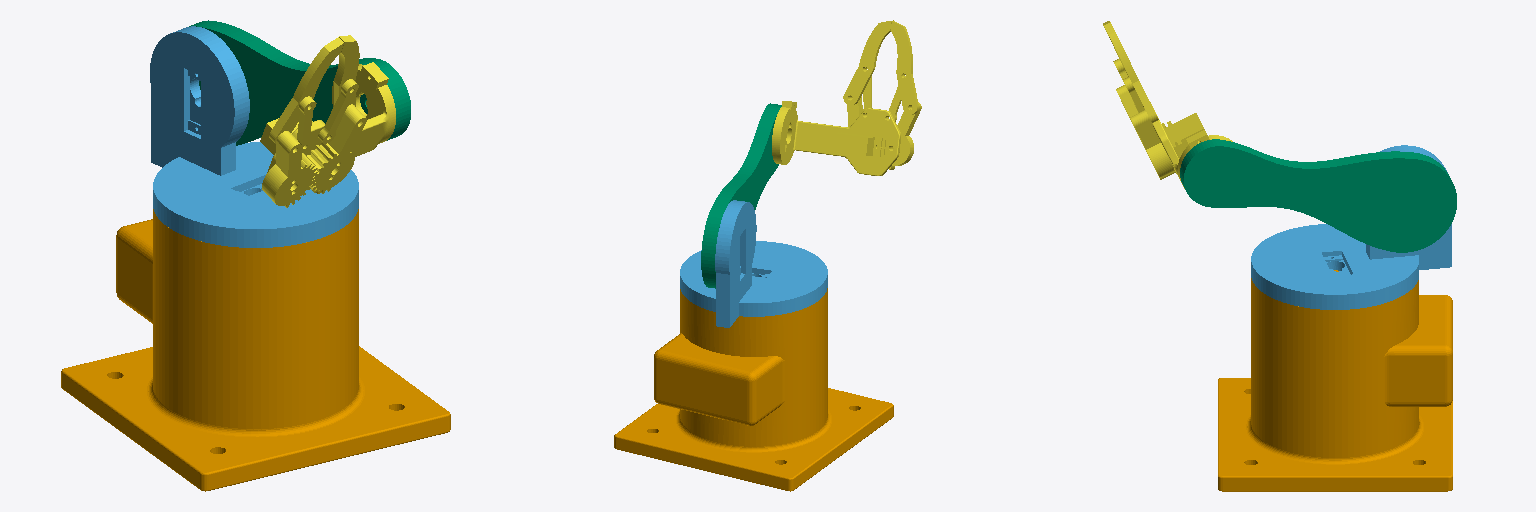
URDF robot description (cad_aligned_3dof_robot):
<?xml version="1.0"?>
<!--
  FINAL VERSION-1 URDF (FIXED LINK-FRAME PLACEMENT)
  3-DOF CAD-aligned robotic arm

  CAD reference:
    - Base, Base Link, Linker, and Gripper mesh frames come from the
      Fusion 360 component frames verified during extraction.
    - Gripper 2.0 is modeled as ONE rigid link.
    - The internal gripper mechanism is intentionally not modeled as
      additional DOFs in Version 1.

  Important:
    - STL coordinates are in millimetres, so every mesh uses scale 0.001.
    - Joint q=0 corresponds to the CAD assembly pose used during export.
    - Joint rpy is zero because the URDF joint frame is aligned with the
      parent link frame; the physical CAD mesh orientation is represented
      by each child link's visual/collision origin.
    - Inertial values are simple positive simulation values, NOT measured
      physical masses/inertias.
-->

<robot name="cad_aligned_3dof_robot">

  <!-- ========================================================= -->
  <!-- BASE                                                       -->
  <!-- ========================================================= -->

  <link name="base">

    <visual>
      <origin xyz="0 0 0" rpy="0 0 0"/>
      <geometry>
        <mesh filename="meshes/Base.stl"
              scale="0.001 0.001 0.001"/>
      </geometry>
    </visual>

    <collision>
      <origin xyz="0 0 0" rpy="0 0 0"/>
      <geometry>
        <mesh filename="meshes/Base.stl"
              scale="0.001 0.001 0.001"/>
      </geometry>
    </collision>

    <!-- Simulation-only inertial placeholder -->
    <inertial>
      <origin xyz="0 0 0" rpy="0 0 0"/>
      <mass value="1.0"/>
      <inertia
        ixx="0.01"
        ixy="0"
        ixz="0"
        iyy="0.01"
        iyz="0"
        izz="0.01"/>
    </inertial>

  </link>


  <!-- ========================================================= -->
  <!-- J1: BASE -> BASE LINK                                     -->
  <!-- ========================================================= -->

  <joint name="joint1_base_rotation"
         type="revolute">

    <parent link="base"/>
    <child link="base_link"/>

    <!-- J1 axis location from Fusion CAD -->
    <origin
      xyz="0 0 0.110000"
      rpy="0 0 0"/>

    <!-- J1 axis expressed in the parent/base frame -->
    <axis xyz="0 0 1"/>

    <limit
      lower="-3.14159265359"
      upper="3.14159265359"
      effort="1.0"
      velocity="2.0"/>

    <dynamics
      damping="0.02"
      friction="0.01"/>

  </joint>


  <!-- ========================================================= -->
  <!-- BASE LINK                                                  -->
  <!--                                                             -->
  <!-- The Base Link STL is expressed in its Fusion component     -->
  <!-- frame. At q=0 the component frame is rotated 102.392883 deg -->
  <!-- about Z relative to the parent/base frame.                  -->
  <!-- ========================================================= -->

  <link name="base_link">

    <visual>
      <origin
        xyz="0 0 0"
        rpy="0 0 1.7870929414"/>
      <geometry>
        <mesh filename="meshes/Base_Link.stl"
              scale="0.001 0.001 0.001"/>
      </geometry>
    </visual>

    <collision>
      <origin
        xyz="0 0 0"
        rpy="0 0 1.7870929414"/>
      <geometry>
        <mesh filename="meshes/Base_Link.stl"
              scale="0.001 0.001 0.001"/>
      </geometry>
    </collision>

    <inertial>
      <origin xyz="0 0 0" rpy="0 0 0"/>
      <mass value="0.20"/>
      <inertia
        ixx="0.001"
        ixy="0"
        ixz="0"
        iyy="0.001"
        iyz="0"
        izz="0.001"/>
    </inertial>

  </link>


  <!-- ========================================================= -->
  <!-- J2: BASE LINK -> LINKER                                   -->
  <!-- ========================================================= -->

  <joint name="joint2_shoulder"
         type="revolute">

    <parent link="base_link"/>
    <child link="linker"/>

    <!-- Fusion joint position relative to Base Link frame -->
    <origin
      xyz="0.00011040219 0.04143331674 0.04768605725"
      rpy="0 0 0"/>

    <!-- Physical J2 axis in Base Link frame -->
    <axis xyz="0.976698944 0.214614011 0"/>

    <limit
      lower="-3.14159265359"
      upper="3.14159265359"
      effort="1.0"
      velocity="2.0"/>

    <dynamics
      damping="0.02"
      friction="0.01"/>

  </joint>


  <!-- ========================================================= -->
  <!-- LINKER                                                     -->
  <!--                                                             -->
  <!-- Linker CAD component frame is 4 mm from the J2 joint frame -->
  <!-- along the J2 joint-frame Y direction and has the measured   -->
  <!-- CAD orientation.                                           -->
  <!-- ========================================================= -->

  <link name="linker">

    <visual>
      <origin
        xyz="-0.00390679619 -0.00085845574 -0.00000000025"
        rpy="1.570796325632 -1.311577250248 1.787092943060"/>
      <geometry>
        <mesh filename="meshes/Linker.stl"
              scale="0.001 0.001 0.001"/>
      </geometry>
    </visual>

    <collision>
      <origin
        xyz="-0.00390679619 -0.00085845574 -0.00000000025"
        rpy="1.570796325632 -1.311577250248 1.787092943060"/>
      <geometry>
        <mesh filename="meshes/Linker.stl"
              scale="0.001 0.001 0.001"/>
      </geometry>
    </collision>

    <inertial>
      <origin xyz="0 0 0" rpy="0 0 0"/>
      <mass value="0.15"/>
      <inertia
        ixx="0.001"
        ixy="0"
        ixz="0"
        iyy="0.001"
        iyz="0"
        izz="0.001"/>
    </inertial>

  </link>


  <!-- ========================================================= -->
  <!-- J3: LINKER -> GRIPPER                                     -->
  <!-- ========================================================= -->

  <joint name="joint3_wrist"
         type="revolute">

    <parent link="linker"/>
    <child link="gripper"/>

    <!-- Fusion J3 position relative to Linker frame -->
    <origin
      xyz="0.02489326226 -0.11328814381 0.03075909567"
      rpy="0 0 0"/>

    <!-- Physical J3 axis in Linker frame -->
    <axis xyz="-0.976698944 -0.214614011 0"/>

    <limit
      lower="-3.14159265359"
      upper="3.14159265359"
      effort="1.0"
      velocity="2.0"/>

    <dynamics
      damping="0.02"
      friction="0.01"/>

  </joint>


  <!-- ========================================================= -->
  <!-- GRIPPER 2.0                                                -->
  <!--                                                             -->
  <!-- The complete Gripper 2.0 assembly is represented by ONE    -->
  <!-- rigid STL mesh. Its Fusion root frame was verified against  -->
  <!-- the exported STL.                                          -->
  <!-- ========================================================= -->

  <link name="gripper">

    <visual>
      <origin
        xyz="-0.00967198545 -0.03246477993 0.01810763308"
        rpy="-1.162247579905 -0.000000000088 0.216296615274"/>
      <geometry>
        <mesh filename="meshes/Gripper.stl"
              scale="0.001 0.001 0.001"/>
      </geometry>
    </visual>

    <collision>
      <origin
        xyz="-0.00967198545 -0.03246477993 0.01810763308"
        rpy="-1.162247579905 -0.000000000088 0.216296615274"/>
      <geometry>
        <mesh filename="meshes/Gripper.stl"
              scale="0.001 0.001 0.001"/>
      </geometry>
    </collision>

    <inertial>
      <origin xyz="0 0 0" rpy="0 0 0"/>
      <mass value="0.15"/>
      <inertia
        ixx="0.001"
        ixy="0"
        ixz="0"
        iyy="0.001"
        iyz="0"
        izz="0.001"/>
    </inertial>

  </link>

</robot>

--- What the picture shows (computed from the rendered views, not written in the file) ---
The picture shows the robot from 3 angles, left to right: view 1: azimuth 30°, elevation 25°; view 2: azimuth 150°, elevation 25°; view 3: azimuth 270°, elevation 25°; orthographic projection.
Robot: cad_aligned_3dof_robot — 4 links, 3 joints (3 revolute); root link base; default pose: every joint at zero.
Links seen in each view (by area): view 1: base, base_link, gripper, linker; view 2: base, base_link, gripper, linker; view 3: base, linker, base_link, gripper.
Link boxes in pixels (left/top/right/bottom): base: left=61, top=209, right=450, bottom=491; base_link: left=150, top=26, right=358, bottom=247; gripper: left=260, top=35, right=395, bottom=207; linker: left=189, top=20, right=410, bottom=145; base: left=614, top=288, right=893, bottom=491; base_link: left=680, top=200, right=827, bottom=327; gripper: left=772, top=20, right=921, bottom=175; linker: left=701, top=103, right=781, bottom=288; base: left=1218, top=270, right=1452, bottom=491; linker: left=1180, top=139, right=1456, bottom=252; base_link: left=1251, top=145, right=1451, bottom=309; gripper: left=1103, top=21, right=1232, bottom=188.
Size in the robot's own frame: 0.14 by 0.2108 by 0.2611 metres.
Meshes: 4 distinct files referenced, 4 mesh visuals loaded (4 binary STL).
